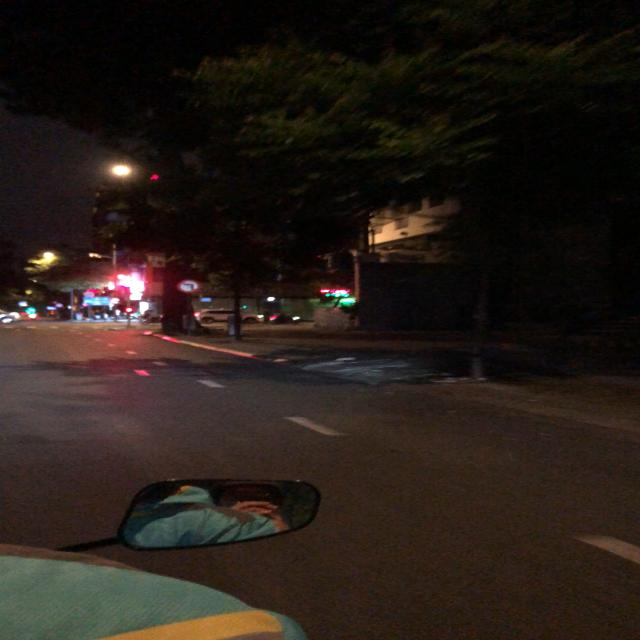Bien bao cam re trai: (170, 276, 203, 296)
